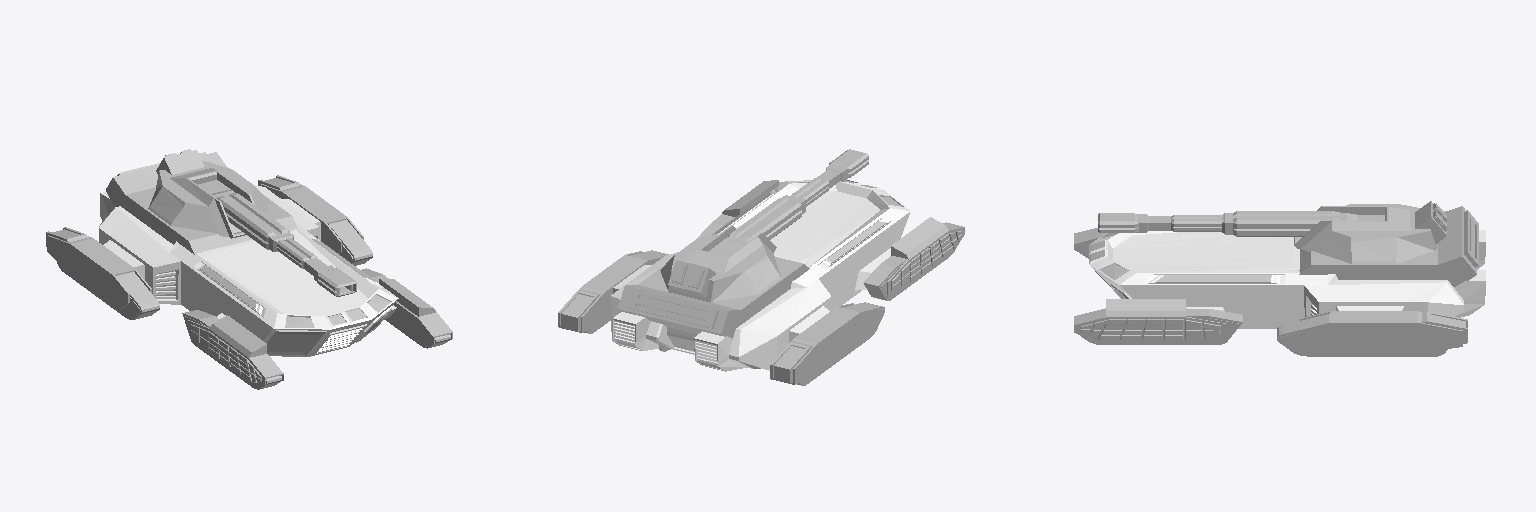
The model's file is HoverTank01.obj.
3 views of the same model, side by side, from view 1: azimuth 30°, elevation 25°; view 2: azimuth 150°, elevation 25°; view 3: azimuth 270°, elevation 25° (orthographic).
Parts seen in each view (by area): view 1: Cube group1, group1 Torreta, group1 CubreFBXASC032Orugas, group1 CubreFBXASC032OrugasFBXASC0322, group1 Centro, group1 Orugas, group1 CaFBXASC195FBXASC177onFBXASC046001, group1 OrugasFBXASC0322, group1 CaFBXASC195FBXASC177on, group1 CaFBXASC195FBXASC177onFBXASC046003, group1 CaFBXASC195FBXASC177onFBXASC046002; view 2: Cube group1, group1 CubreFBXASC032Orugas, group1 Torreta, group1 Centro, group1 CubreFBXASC032OrugasFBXASC0322, group1 OrugasFBXASC0322, group1 CaFBXASC195FBXASC177onFBXASC046001, group1 CaFBXASC195FBXASC177on, group1 Orugas, group1 CaFBXASC195FBXASC177onFBXASC046003, group1 CaFBXASC195FBXASC177onFBXASC046002; view 3: Cube group1, group1 Torreta, group1 CubreFBXASC032Orugas, group1 CubreFBXASC032OrugasFBXASC0322, group1 Centro, group1 CaFBXASC195FBXASC177onFBXASC046001, group1 Orugas, group1 OrugasFBXASC0322, group1 CaFBXASC195FBXASC177on, group1 CaFBXASC195FBXASC177onFBXASC046002, group1 CaFBXASC195FBXASC177onFBXASC046003.
Boxes of the visible parts, x1=… form: Cube group1: x1=99, y1=185, x2=398, y2=356; group1 Torreta: x1=148, y1=149, x2=269, y2=238; group1 CubreFBXASC032Orugas: x1=46, y1=175, x2=363, y2=309; group1 CubreFBXASC032OrugasFBXASC0322: x1=188, y1=278, x2=452, y2=385; group1 Centro: x1=106, y1=152, x2=297, y2=254; group1 Orugas: x1=57, y1=220, x2=372, y2=319; group1 CaFBXASC195FBXASC177onFBXASC046001: x1=216, y1=193, x2=289, y2=249; group1 OrugasFBXASC0322: x1=182, y1=268, x2=450, y2=389; group1 CaFBXASC195FBXASC177on: x1=211, y1=190, x2=352, y2=294; group1 CaFBXASC195FBXASC177onFBXASC046003: x1=317, y1=268, x2=356, y2=296; group1 CaFBXASC195FBXASC177onFBXASC046002: x1=277, y1=237, x2=316, y2=268; Cube group1: x1=611, y1=180, x2=910, y2=371; group1 CubreFBXASC032Orugas: x1=558, y1=251, x2=875, y2=384; group1 Torreta: x1=660, y1=225, x2=780, y2=302; group1 Centro: x1=618, y1=257, x2=809, y2=338; group1 CubreFBXASC032OrugasFBXASC0322: x1=718, y1=180, x2=964, y2=294; group1 OrugasFBXASC0322: x1=698, y1=214, x2=955, y2=300; group1 CaFBXASC195FBXASC177onFBXASC046001: x1=728, y1=198, x2=801, y2=241; group1 CaFBXASC195FBXASC177on: x1=719, y1=164, x2=847, y2=250; group1 Orugas: x1=584, y1=250, x2=884, y2=385; group1 CaFBXASC195FBXASC177onFBXASC046003: x1=829, y1=149, x2=868, y2=177; group1 CaFBXASC195FBXASC177onFBXASC046002: x1=791, y1=178, x2=828, y2=206; Cube group1: x1=1089, y1=230, x2=1485, y2=328; group1 Torreta: x1=1294, y1=201, x2=1446, y2=263; group1 CubreFBXASC032Orugas: x1=1300, y1=211, x2=1467, y2=352; group1 CubreFBXASC032OrugasFBXASC0322: x1=1074, y1=228, x2=1227, y2=340; group1 Centro: x1=1299, y1=206, x2=1478, y2=286; group1 CaFBXASC195FBXASC177onFBXASC046001: x1=1233, y1=211, x2=1340, y2=236; group1 Orugas: x1=1277, y1=314, x2=1447, y2=356; group1 OrugasFBXASC0322: x1=1080, y1=253, x2=1242, y2=344; group1 CaFBXASC195FBXASC177on: x1=1137, y1=213, x2=1357, y2=234; group1 CaFBXASC195FBXASC177onFBXASC046002: x1=1171, y1=215, x2=1223, y2=231; group1 CaFBXASC195FBXASC177onFBXASC046003: x1=1098, y1=213, x2=1138, y2=232.
Bounding box in the file's own units: 11.29 × 4.33 × 17.11.